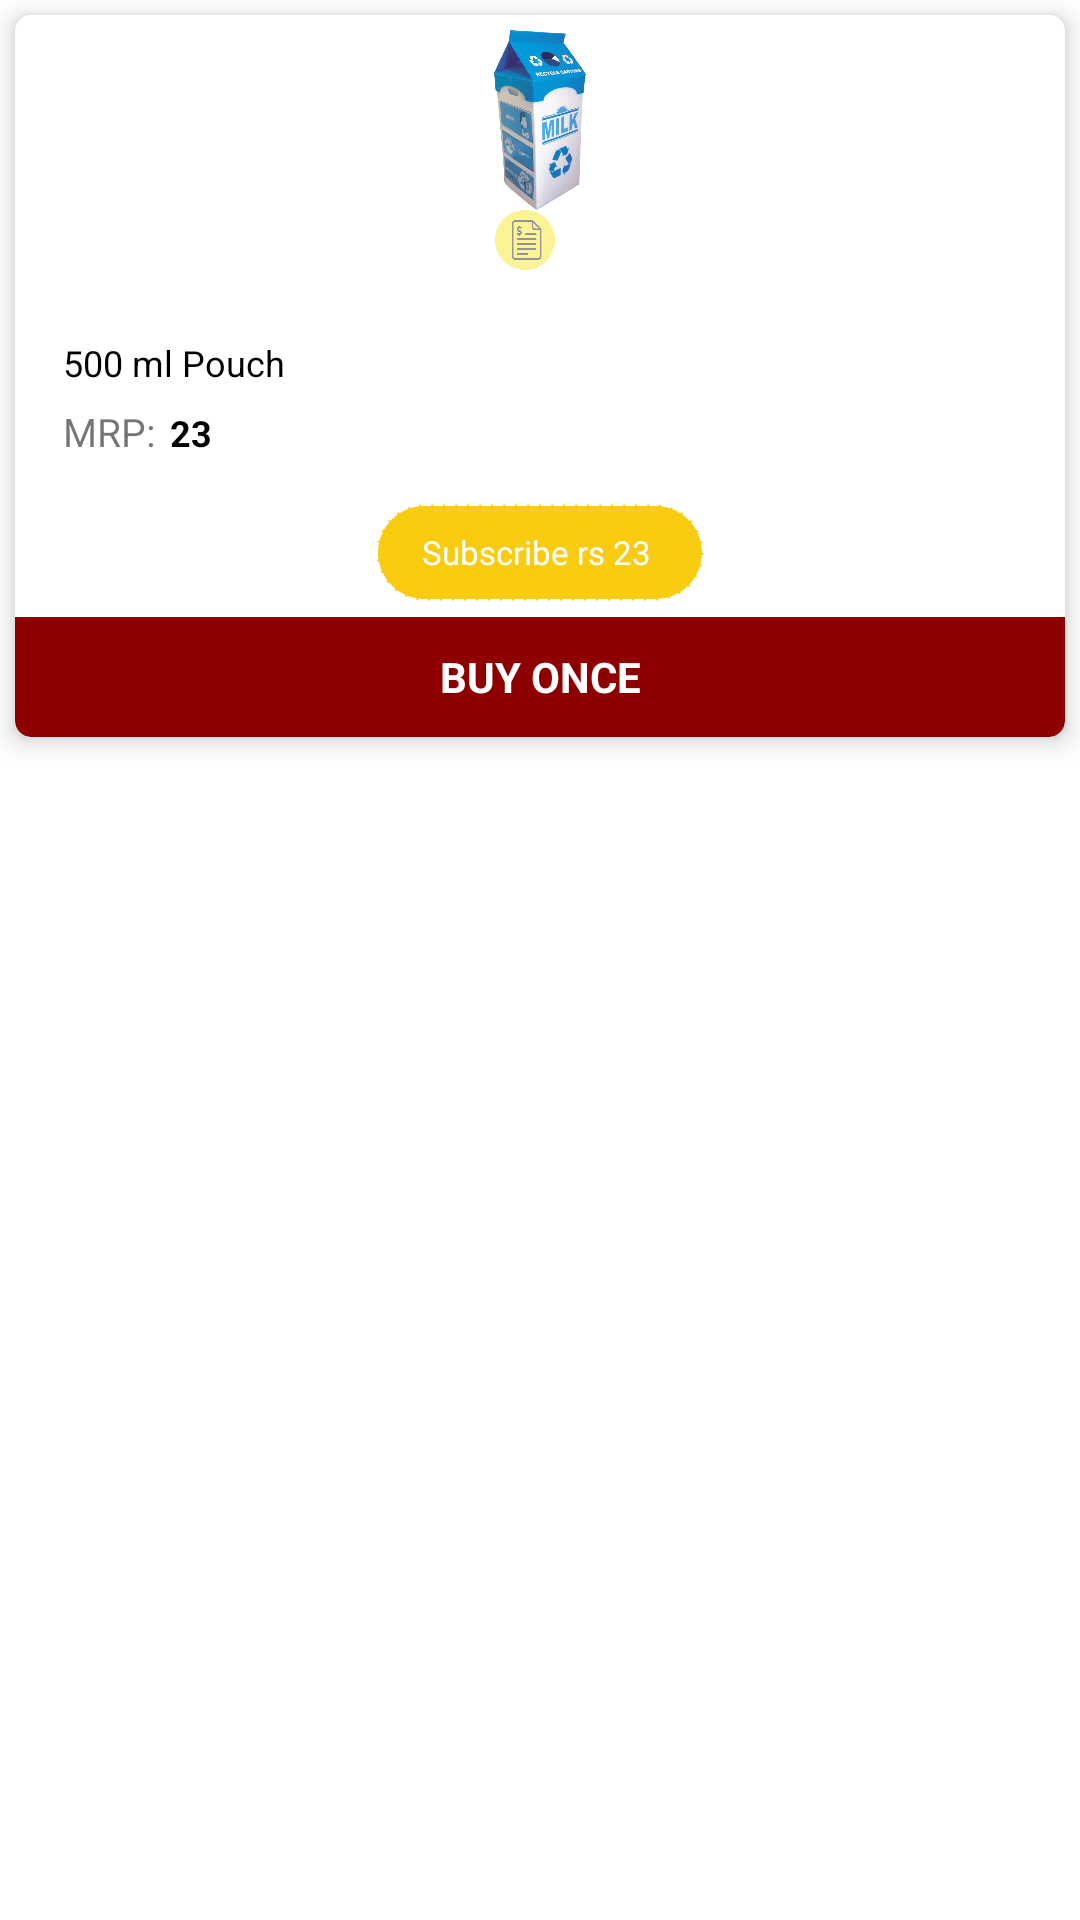

Icon bounding boxes for this 1080px x 1920px phone screenshot, format (x1, y1, x2, y2):
yellowbill: (495, 210, 555, 270)
